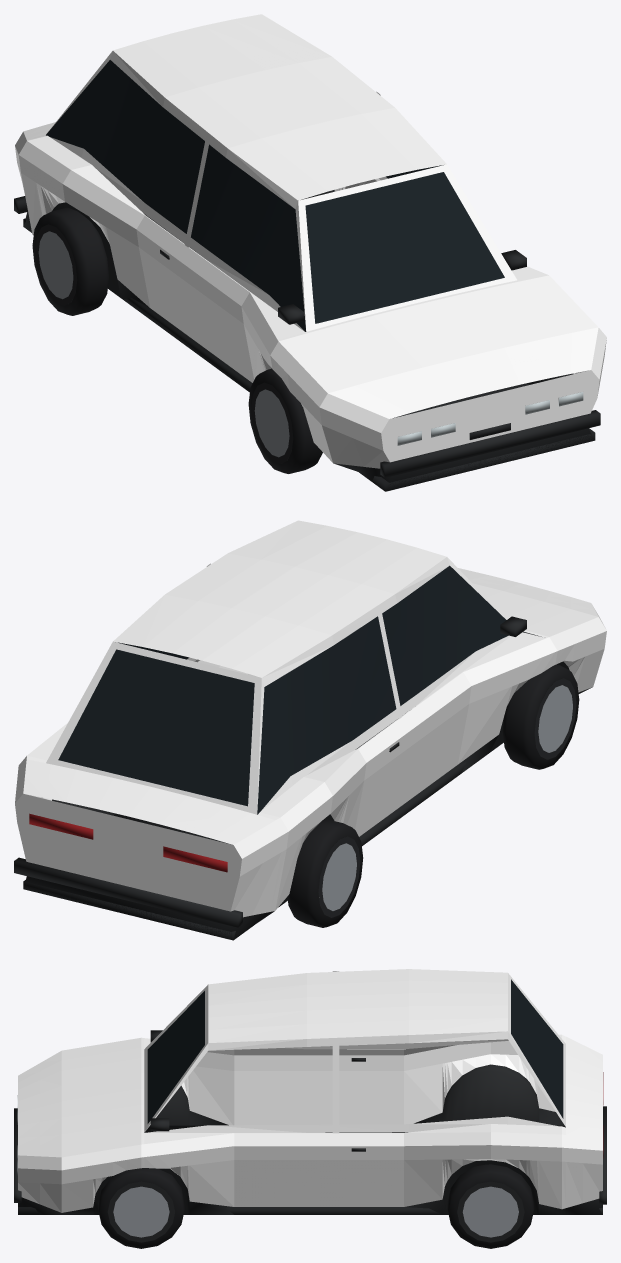
File: ostwerk_abrigo.glb
The picture shows the model from 3 angles, top to bottom: view 1: azimuth 30°, elevation 25°; view 2: azimuth 150°, elevation 25°; view 3: azimuth 270°, elevation 25°; orthographic projection. The views are drawn at different scales.
Visible parts, largest first — view 1: Body_Paint, Body_Details, Mount_RearLeft_Wheel_Details, Mount_FrontLeft_Wheel_Details; view 2: Body_Paint, Body_Details, Mount_RearLeft_Wheel_Details, Mount_FrontLeft_Wheel_Details; view 3: Body_Paint, Body_Details, Mount_RearRight_Wheel_Details, Mount_FrontRight_Wheel_Details.
Boxes of the visible parts, box(x1,y1,x2,y2) form: Body_Paint: box(15, 14, 606, 468); Body_Details: box(14, 60, 600, 491); Mount_RearLeft_Wheel_Details: box(32, 207, 108, 315); Mount_FrontLeft_Wheel_Details: box(248, 368, 322, 473); Body_Paint: box(15, 520, 606, 917); Body_Details: box(14, 565, 592, 940); Mount_RearLeft_Wheel_Details: box(287, 819, 363, 927); Mount_FrontLeft_Wheel_Details: box(502, 664, 579, 769); Body_Paint: box(18, 969, 602, 1212); Body_Details: box(14, 979, 606, 1214); Mount_RearRight_Wheel_Details: box(447, 1164, 534, 1248); Mount_FrontRight_Wheel_Details: box(98, 1168, 184, 1248).
Bounding box in the file's own units: 1.89 × 1.52 × 4.18.
Materials: 2 (1 with a texture image).
